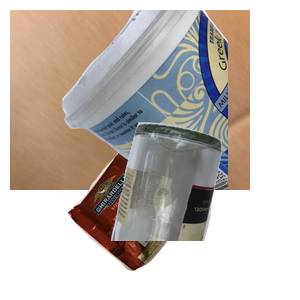cardboard: (10, 10, 250, 190)
glass: (109, 120, 300, 300)
plastic: (60, 10, 300, 190)
trash: (65, 145, 242, 300)
